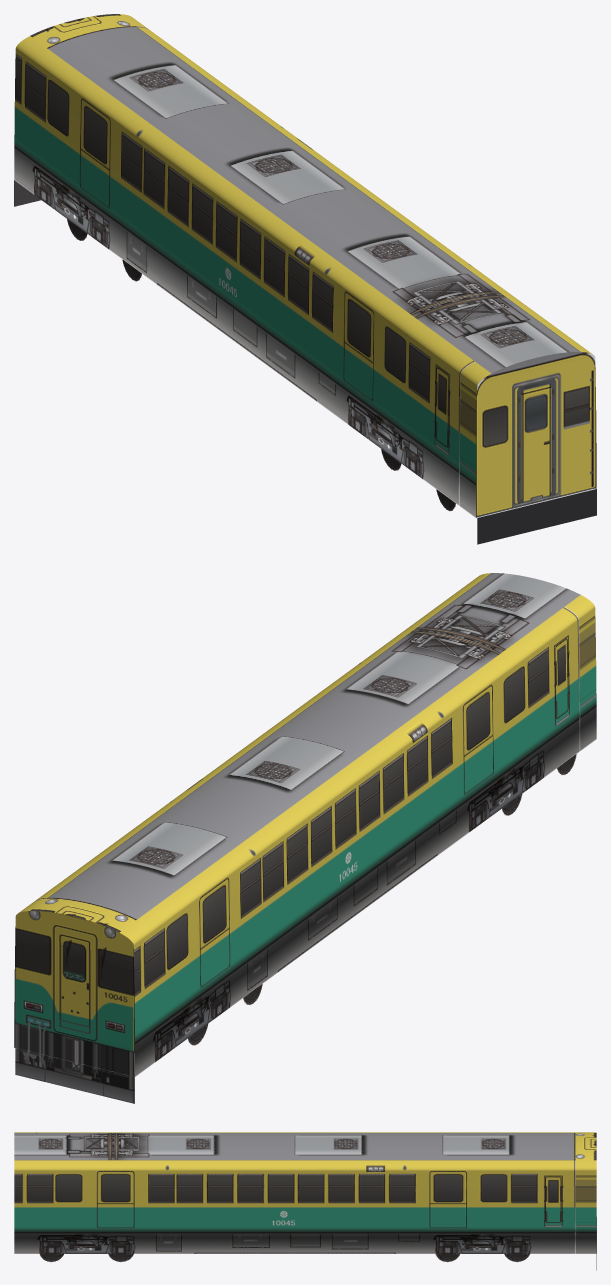
Rendered from car2.glb.
3 views of the same model, one above another, from view 1: azimuth 30°, elevation 25°; view 2: azimuth 150°, elevation 25°; view 3: azimuth 270°, elevation 25° (orthographic). The views are drawn at different scales.
Parts seen in each view (by area): view 1: toyama10030-car2; view 2: toyama10030-car2; view 3: toyama10030-car2.
Boxes of the visible parts, left/top/right/bottom form: toyama10030-car2: left=14, top=14, right=596, bottom=544; toyama10030-car2: left=14, top=573, right=596, bottom=1103; toyama10030-car2: left=14, top=1132, right=596, bottom=1270.
Size of the model in its own units: 2.72 by 3.7 by 18.03.
Materials: 8 (7 with a texture image).
